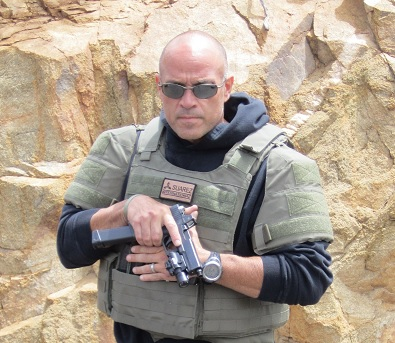gun: (86, 203, 206, 285)
